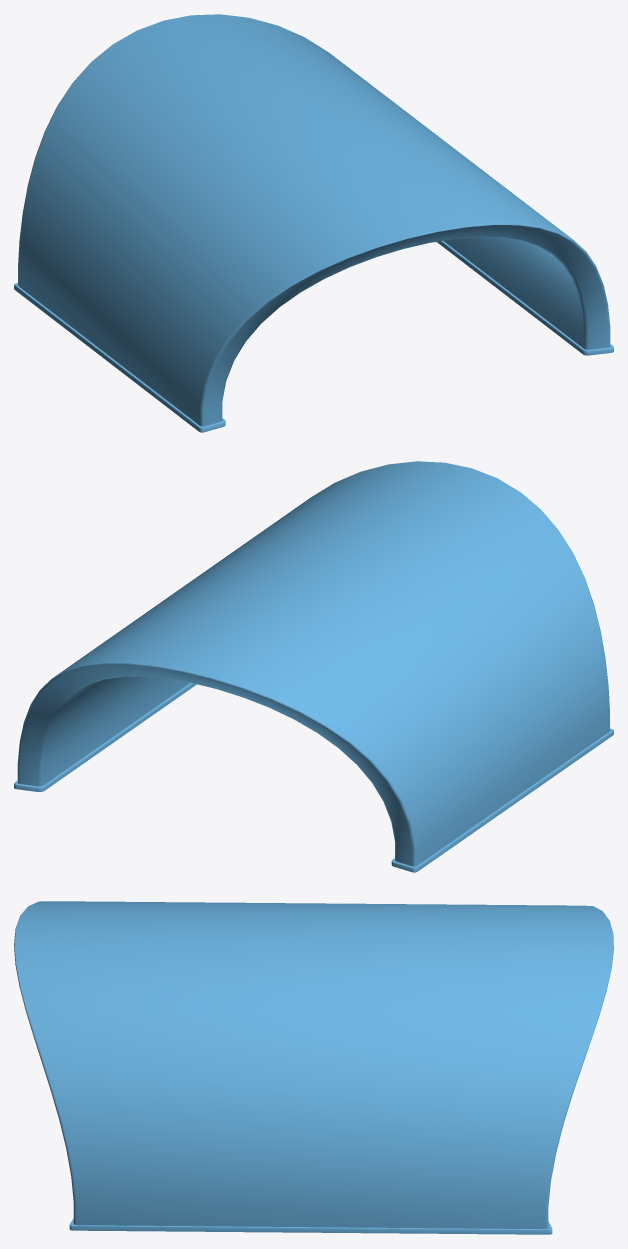
File: Lb_Tunel_02.fbx
3 views of the same model, one above another, from view 1: azimuth 30°, elevation 25°; view 2: azimuth 150°, elevation 25°; view 3: azimuth 270°, elevation 25° (orthographic). The views are drawn at different scales.
Visible parts, largest first — view 1: Lb_Tunel_02; view 2: Lb_Tunel_02; view 3: Lb_Tunel_02.
Part boxes in pixels (bbox=[...]): Lb_Tunel_02: bbox=[14, 14, 613, 432]; Lb_Tunel_02: bbox=[14, 461, 613, 872]; Lb_Tunel_02: bbox=[14, 901, 613, 1234].
Bounding box in the file's own units: 1828 × 824 × 2249.
